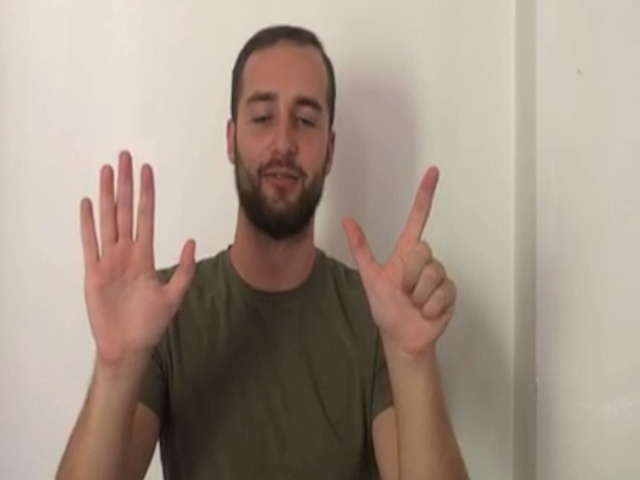Pet i Sedumnaeset: (77, 146, 466, 373)
